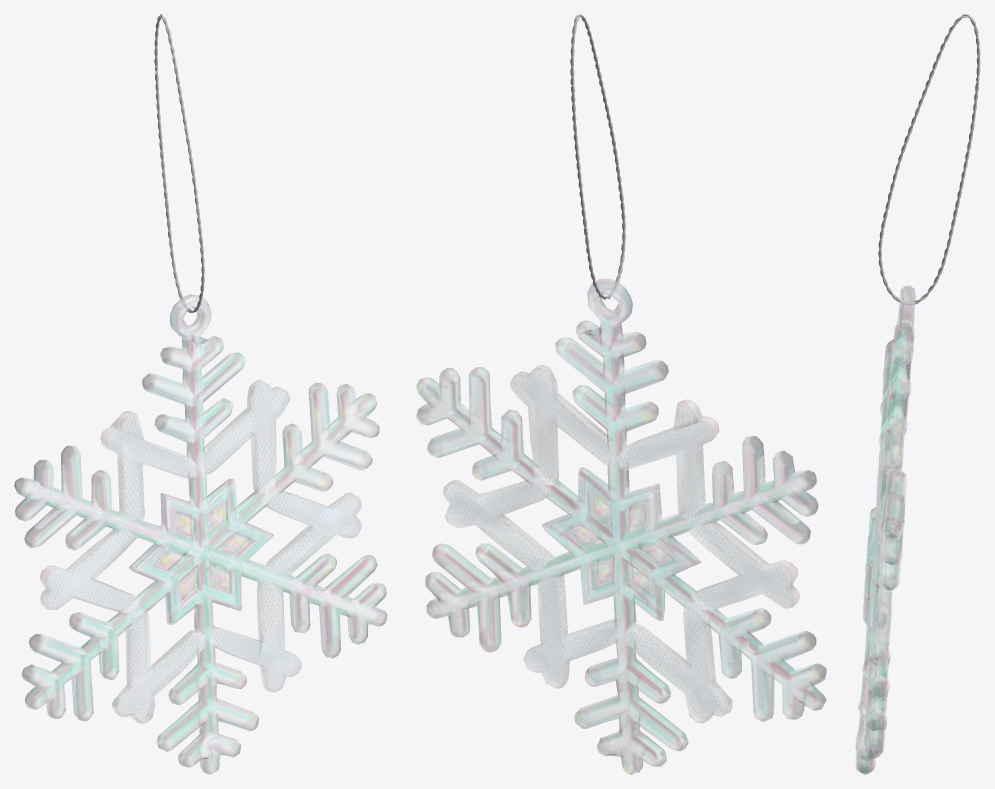
Rendered from Iridescent_Snowflake.glb.
3 renders of one model, left to right at view 1: azimuth 30°, elevation 25°; view 2: azimuth 150°, elevation 25°; view 3: azimuth 270°, elevation 25°, orthographic. The views are drawn at different scales.
Parts seen in each view (by area): view 1: Mesh1.0, GN Instance; view 2: Mesh1.0, GN Instance; view 3: Mesh1.0, GN Instance.
Boxes of the visible parts, left/top/right/bottom form: Mesh1.0: left=14, top=294, right=387, bottom=774; GN Instance: left=154, top=14, right=204, bottom=312; Mesh1.0: left=416, top=278, right=826, bottom=774; GN Instance: left=570, top=14, right=625, bottom=299; Mesh1.0: left=855, top=285, right=915, bottom=774; GN Instance: left=878, top=14, right=980, bottom=304.
Size of the model in its own units: 0.0654 by 0.1248 by 0.0186.
2 materials, 1 textured.
